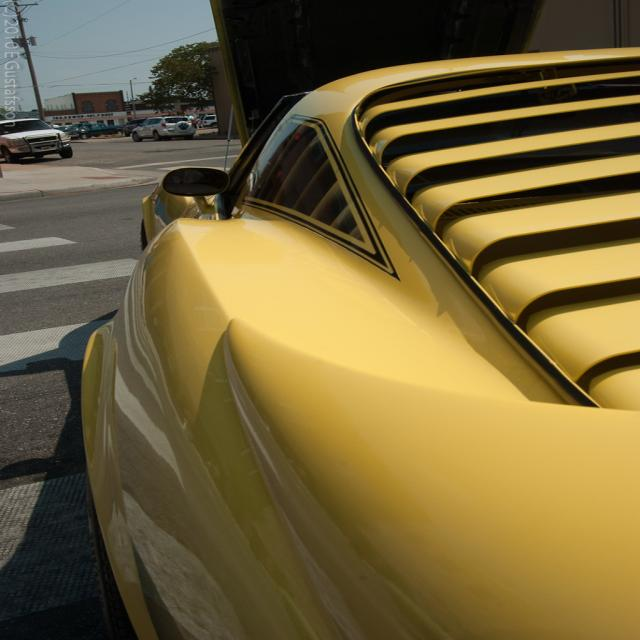car: (129, 113, 198, 135)
